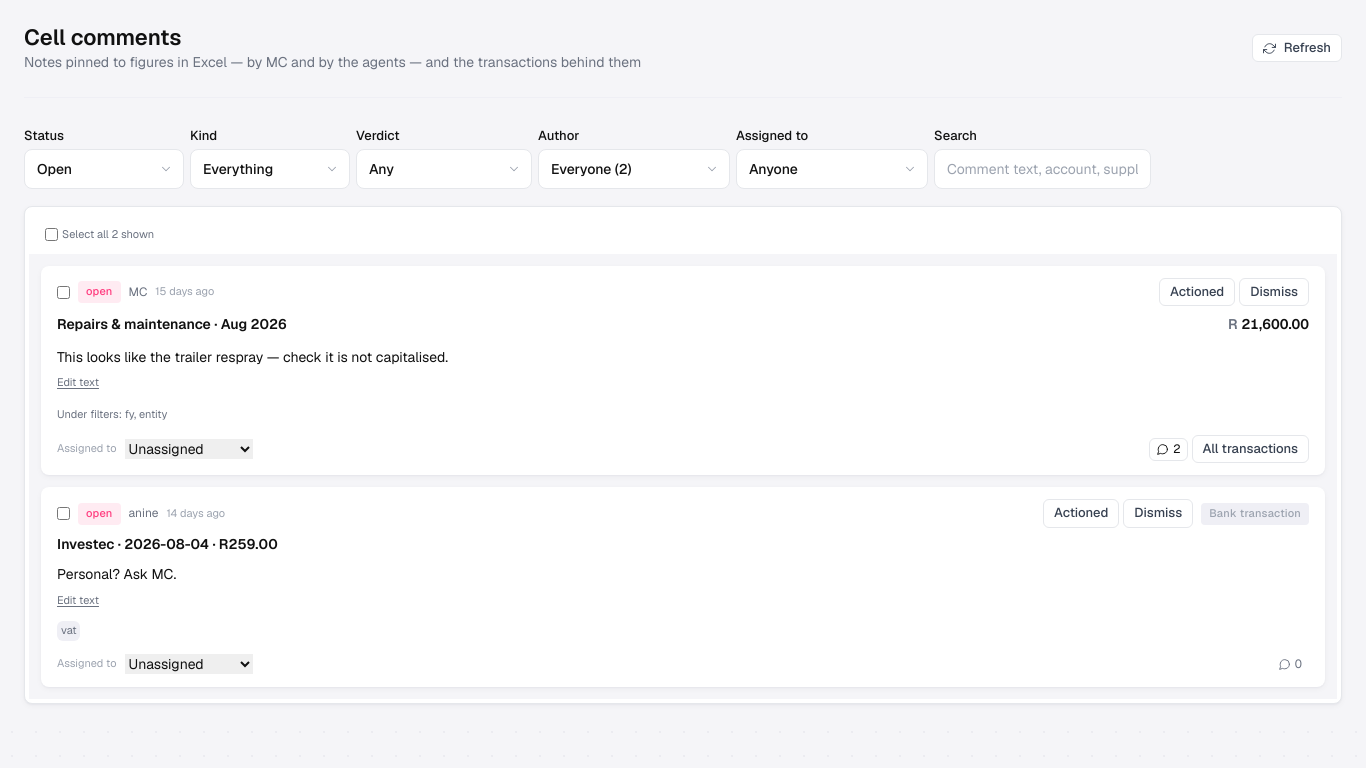
Test: AuditComments — reply threads › renders replies nested under their parent, with authors
Click the button with test id "inline-comment-trigger" showing "2".
click(1168, 449)  # box [1149,438,1188,461]
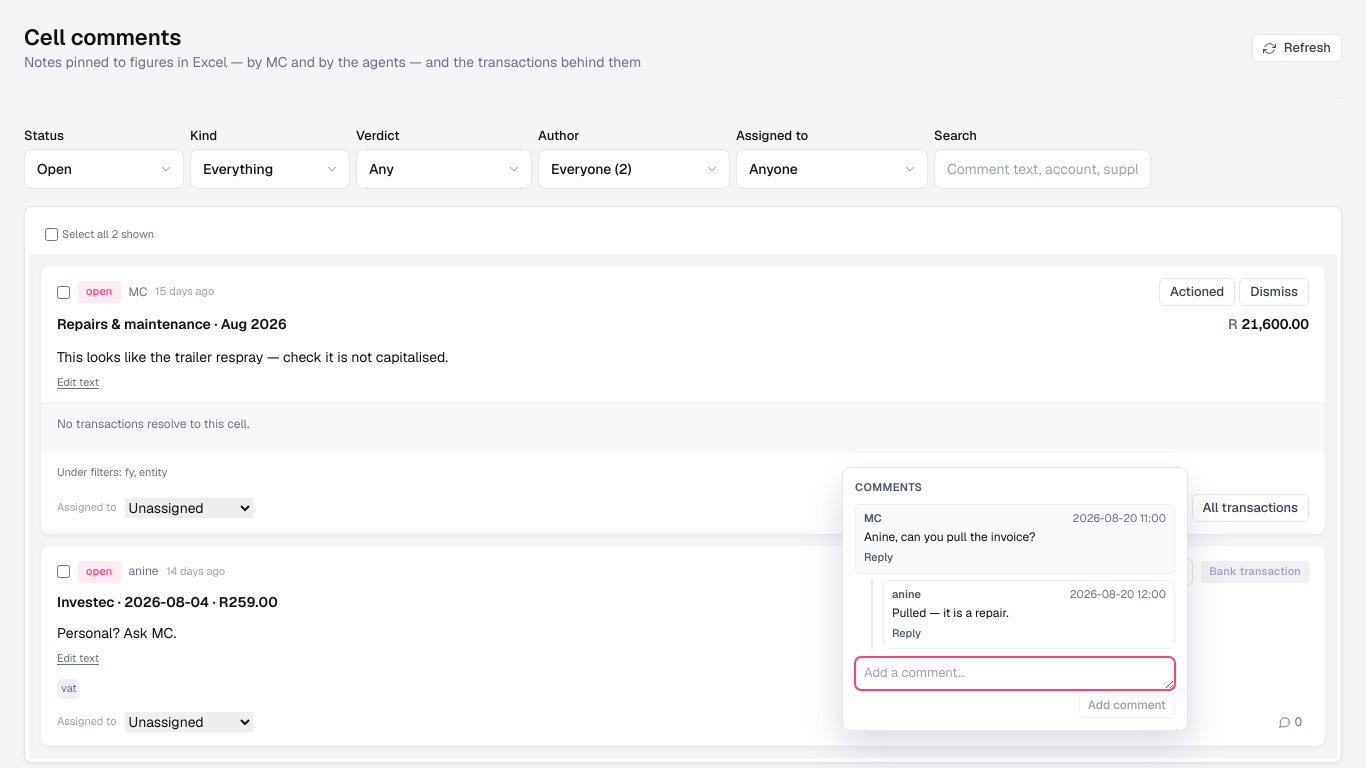
Expected: the number of elements with test id "comment" is 1, [855,504,1175,574]
Expected: the number of elements with test id "comment-reply" is 1, [883,580,1175,649]
Expected: the element with test id "comment" shows "Anine, can you pull the invoice?", [864,529,1036,545]
